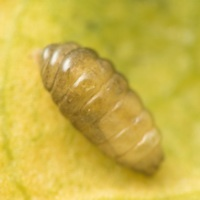insect: (41, 43, 162, 173)
